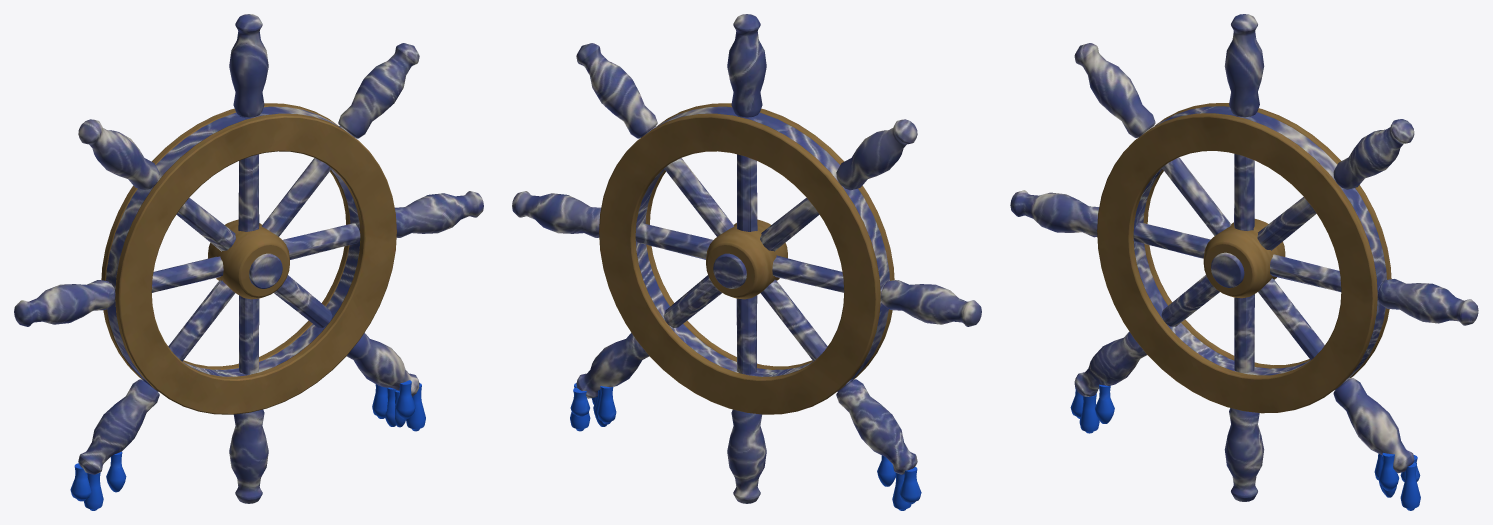
Rendered from ships_wheel.glb.
3 views of the same model, side by side, from view 1: azimuth 30°, elevation 25°; view 2: azimuth 150°, elevation 25°; view 3: azimuth 330°, elevation 25° (orthographic).
Parts seen in each view (by area): view 1: ships_wheel; view 2: ships_wheel; view 3: ships_wheel.
Part boxes in pixels (<box>): ships_wheel: <box>14,14,483,510</box>; ships_wheel: <box>512,14,981,510</box>; ships_wheel: <box>1010,14,1478,510</box>.
Size of the model in its own units: 1.05 by 1.05 by 0.1433.
Materials: 1 (1 with a texture image).
